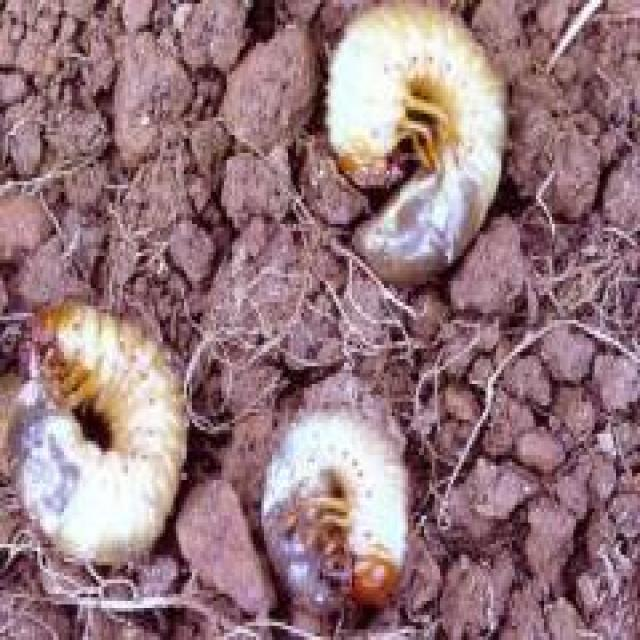Grub-Adult-: (15, 292, 195, 574), (217, 384, 429, 620), (325, 8, 512, 275)
